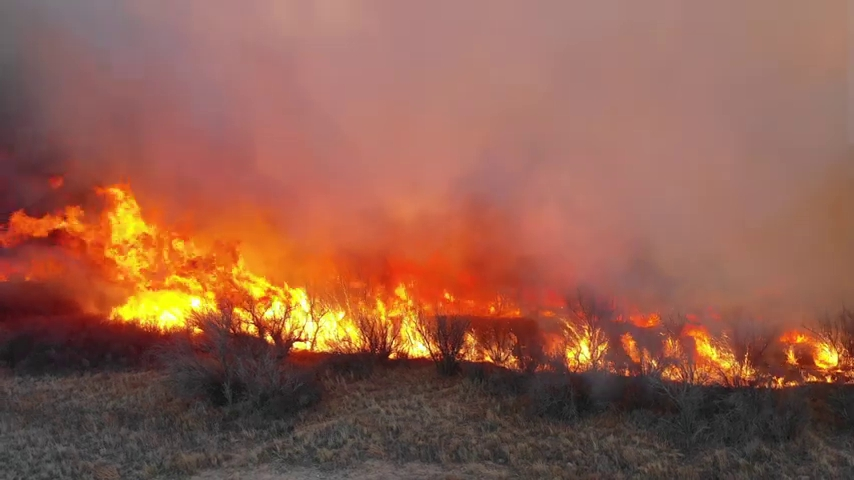forest_fire: (0, 185, 853, 384), (0, 257, 61, 279), (423, 288, 436, 290)
